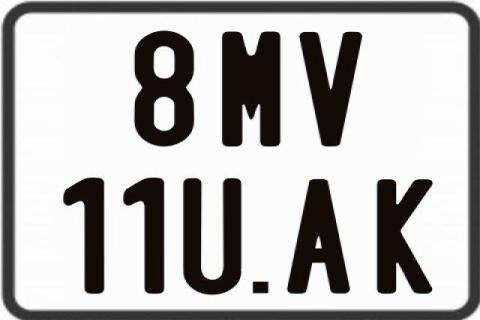0: (131, 28, 193, 146), (122, 177, 168, 293), (62, 178, 104, 296)
A: (284, 178, 351, 296)
K: (375, 178, 436, 294)
M: (221, 29, 279, 149)
U: (183, 177, 246, 295)
V: (298, 31, 366, 151)
